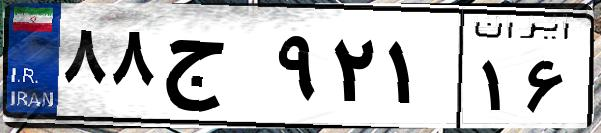1: (385, 28, 445, 110), (475, 38, 525, 113)
2: (330, 28, 385, 110)
6: (525, 38, 570, 115)
8: (57, 26, 110, 100), (110, 28, 158, 98)
9: (270, 28, 330, 110)
ج: (158, 20, 270, 120)
